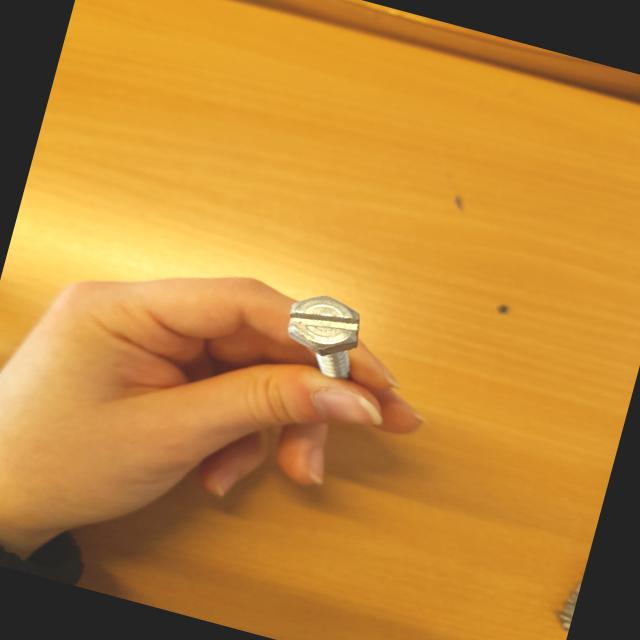Slotted: (280, 284, 369, 362)
